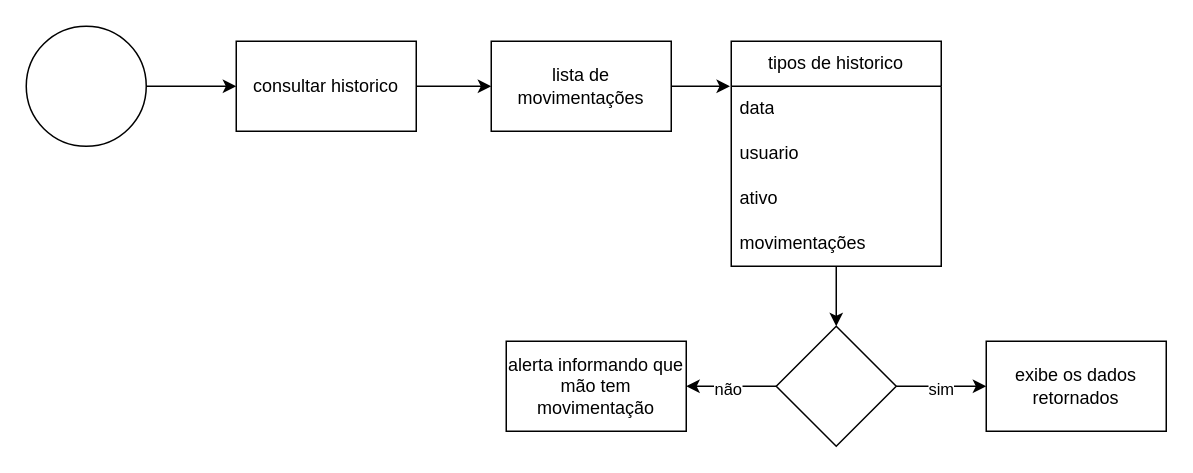
Some shapes in this 1193 by 473 pixel diagram are drawn without their labels. Each missing label, with the centre of its shape:
"inicio" goes at point 85,85.
"realizar a pesquisa" goes at point 835,385.
